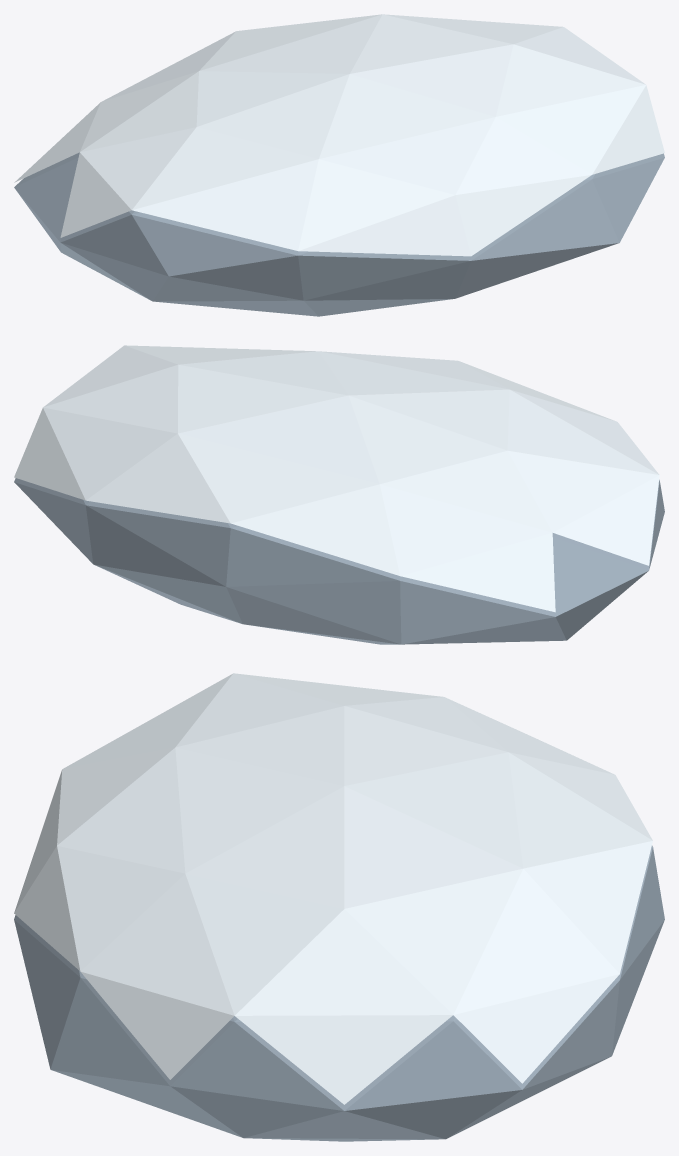
The model's file is rock-flat-snowy.glb.
3 views of the same model, one above another, from view 1: azimuth 30°, elevation 25°; view 2: azimuth 150°, elevation 25°; view 3: azimuth 270°, elevation 25° (orthographic). The views are drawn at different scales.
Visible parts, largest first — view 1: rock-flat-kit-snowy-top, rock-flat-kit-snowy-stone; view 2: rock-flat-kit-snowy-top, rock-flat-kit-snowy-stone; view 3: rock-flat-kit-snowy-top, rock-flat-kit-snowy-stone.
Part boxes in pixels (x1,y1,x2,y2): rock-flat-kit-snowy-top: [14, 14, 664, 256]; rock-flat-kit-snowy-stone: [14, 152, 664, 316]; rock-flat-kit-snowy-top: [14, 345, 659, 612]; rock-flat-kit-snowy-stone: [14, 478, 664, 644]; rock-flat-kit-snowy-top: [14, 673, 652, 1104]; rock-flat-kit-snowy-stone: [14, 845, 664, 1141].
Bounding box in the file's own units: 2.02 × 0.612 × 1.45.
